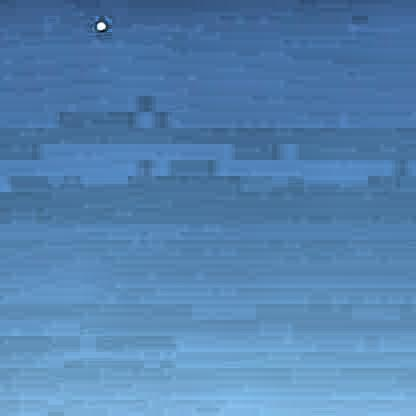golfball: (92, 17, 106, 31)
